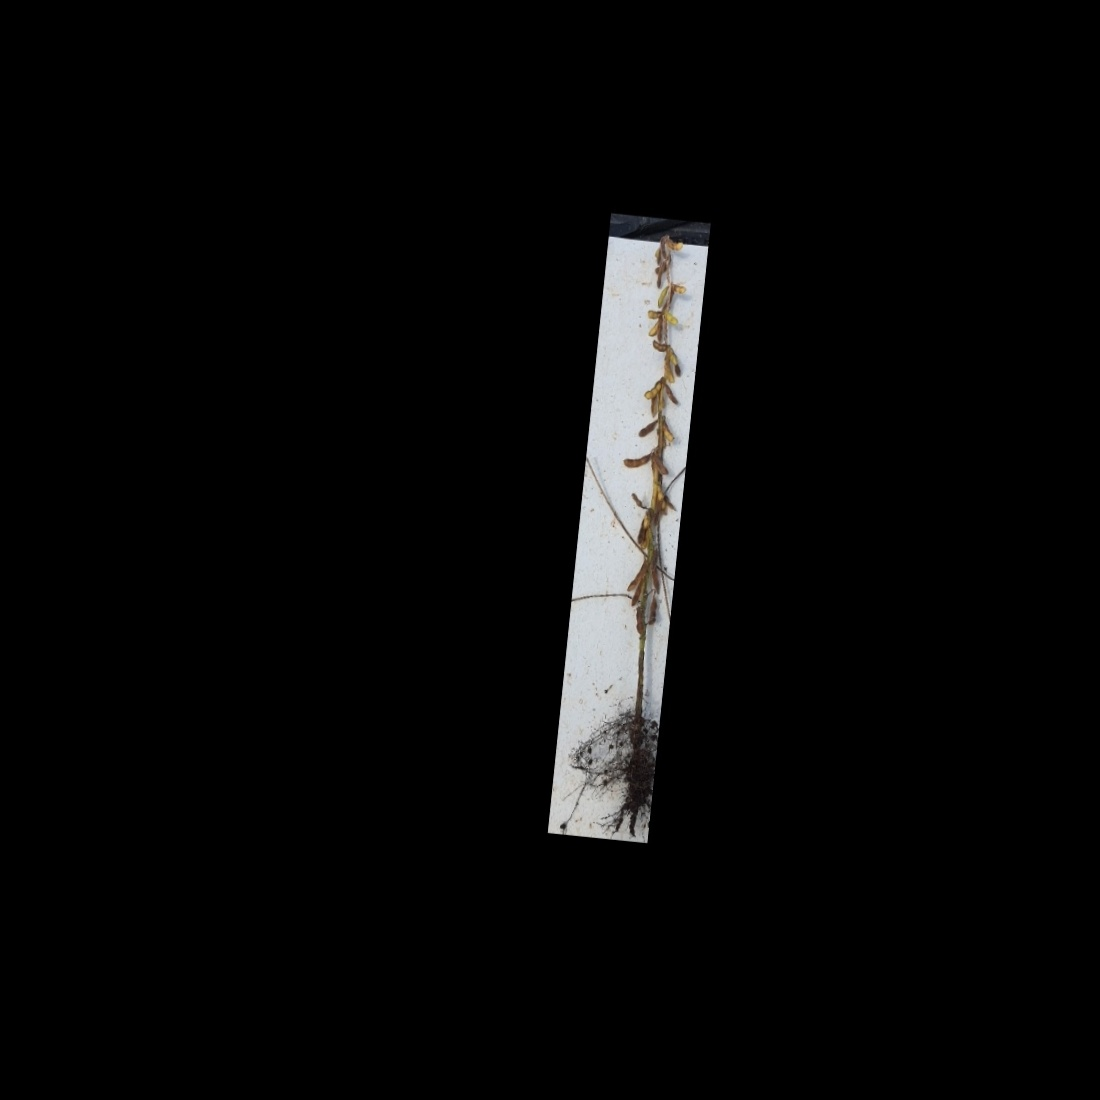pod: (620, 448, 652, 474), (662, 381, 684, 411), (641, 377, 662, 402), (635, 417, 658, 439), (660, 418, 678, 443), (629, 579, 644, 609), (666, 234, 686, 255), (654, 283, 669, 311), (670, 277, 687, 299), (651, 337, 667, 354)
soy: (565, 221, 706, 804)
